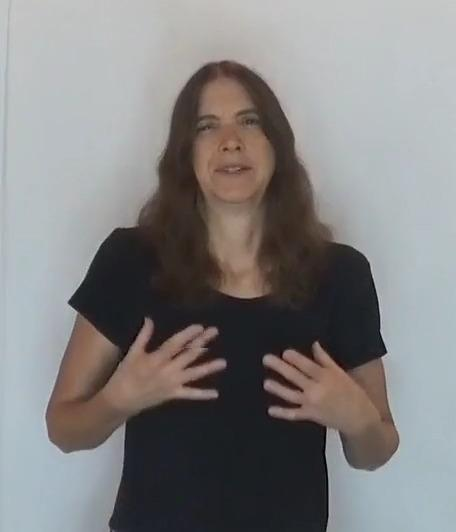Dolor: (23, 40, 411, 491)
